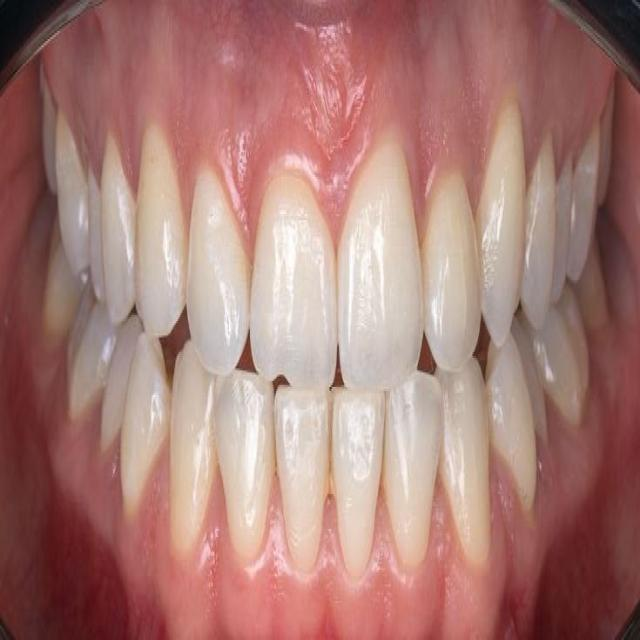1st Molar: (533, 286, 589, 428), (68, 286, 116, 420), (55, 113, 87, 276), (569, 132, 601, 281)
1st Premolar: (487, 327, 539, 516), (122, 335, 169, 517), (521, 128, 555, 333), (102, 136, 136, 327)
2nd Molar: (43, 228, 82, 342), (576, 241, 610, 335), (600, 86, 615, 206), (43, 72, 56, 195)
2nd Premolar: (100, 316, 140, 449), (514, 315, 548, 445), (553, 157, 573, 286), (87, 167, 102, 298)
Canine: (475, 95, 525, 348), (439, 359, 492, 574), (137, 126, 186, 340), (171, 344, 218, 560)
Central Incisor: (338, 134, 424, 389), (249, 171, 339, 391), (274, 385, 332, 582), (331, 387, 386, 580)
Lateral Incisor: (185, 161, 252, 377), (211, 372, 274, 571), (382, 375, 442, 574), (422, 171, 481, 372)
